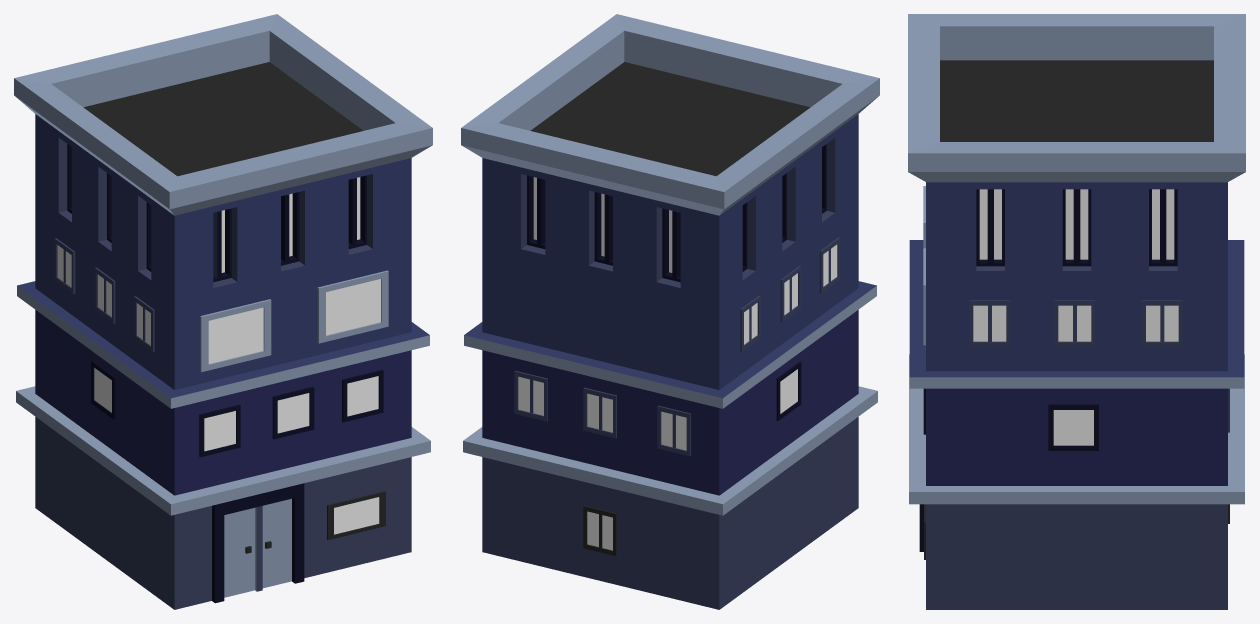
Rendered from Building_Apartment.FBX.
The picture shows the model from 3 angles, left to right: view 1: azimuth 30°, elevation 25°; view 2: azimuth 150°, elevation 25°; view 3: azimuth 270°, elevation 25°; orthographic projection. The views are drawn at different scales.
Parts seen in each view (by area): view 1: Box013; view 2: Box013; view 3: Box013.
Boxes of the visible parts, x1,y1,x2,y2 form: Box013: (14, 14, 432, 609); Box013: (461, 14, 879, 609); Box013: (908, 14, 1245, 609).
Bounding box in the file's own units: 907 × 1408 × 929.
